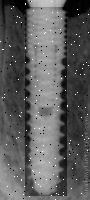Hiossen: (25, 7, 67, 196)
